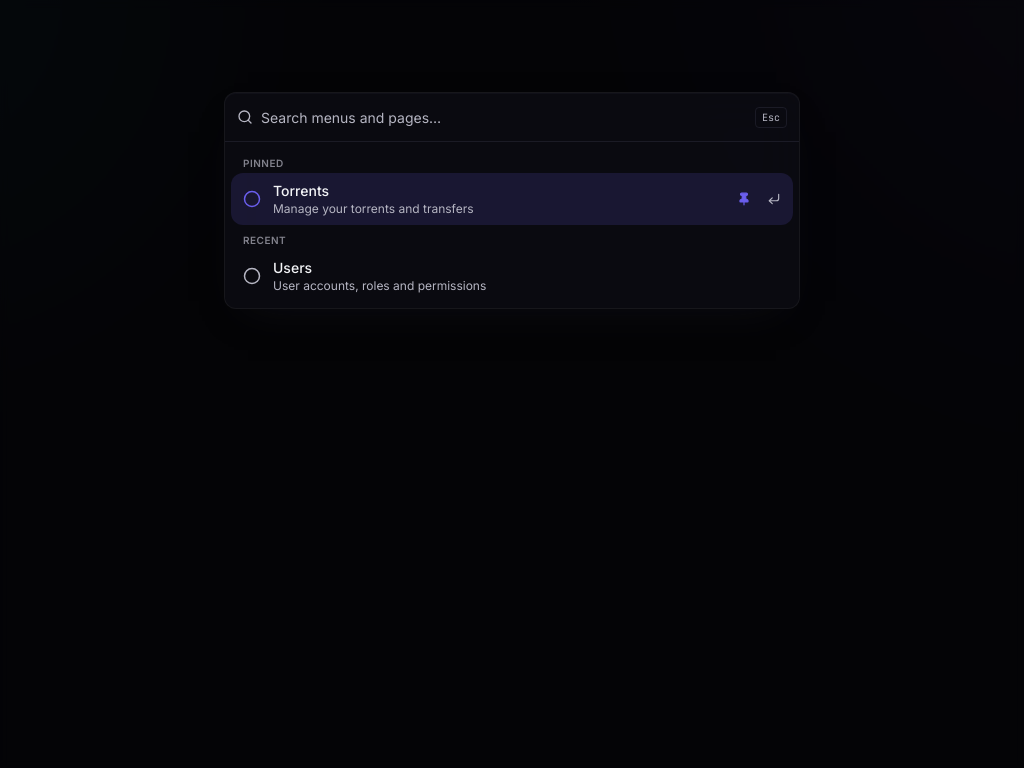
Test case: CommandPalette › shows Pinned / Recent / Favorites quick-access sections when the query is empty
Expected: the text "Pinned" is shown, top-left (243, 157), bottom-right (284, 169)
Expected: the text "Recent" is shown, top-left (243, 234), bottom-right (286, 246)
Typing switches back to a flat filtered list (no section headers).
Step 1. Type "user" into the field → {"x": 504, "y": 117}, box top-left (261, 93), bottom-right (747, 141)
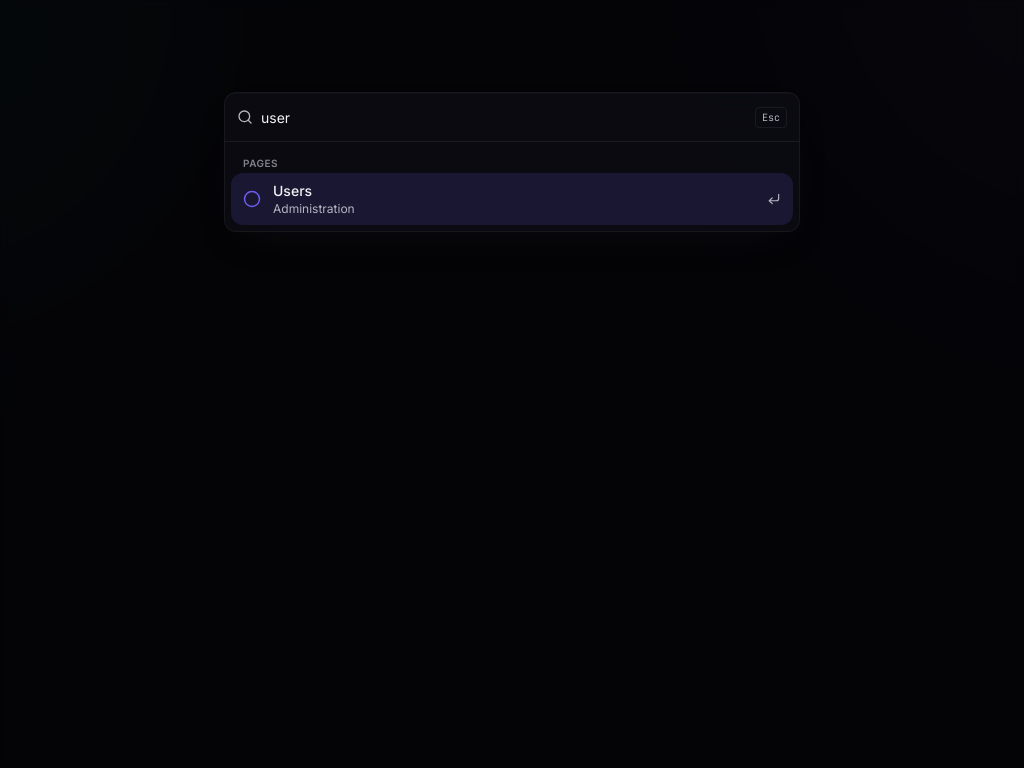
Result: the text "Pinned" is gone
